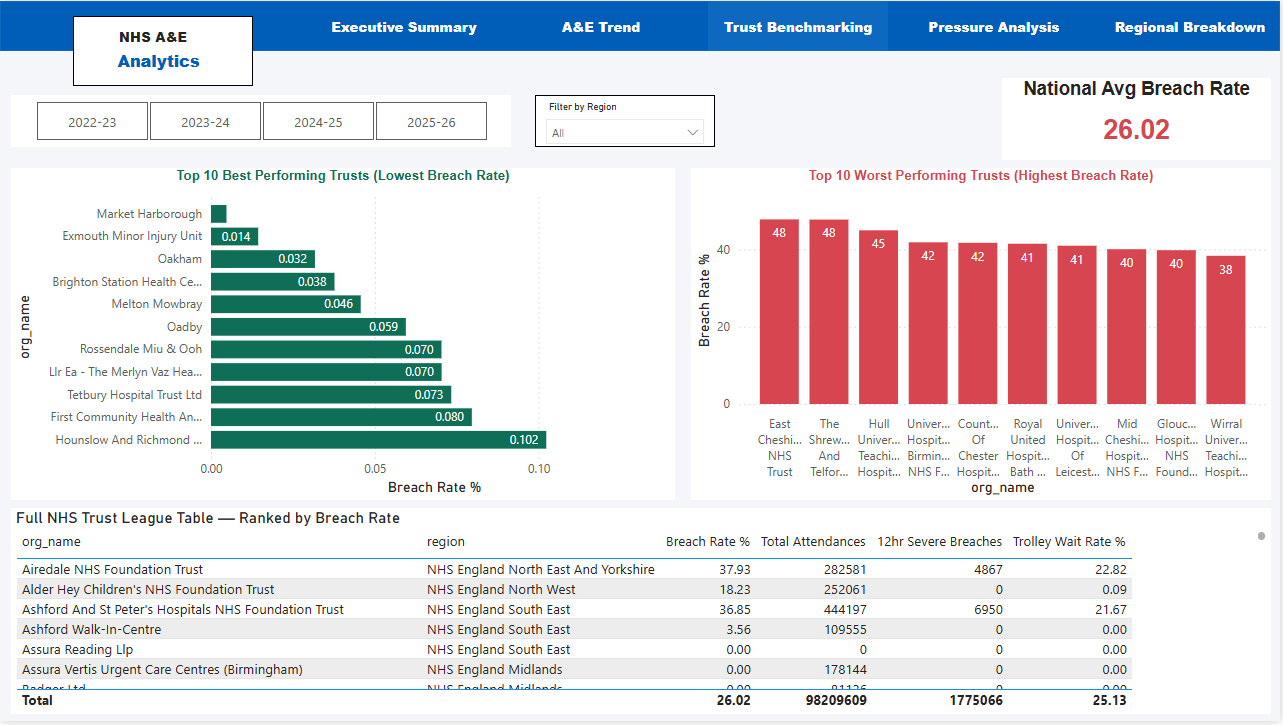

The dashboard page shown, as its layout file describes it:
{"tool":"powerbi","page":{"name":"Trust Benchmarking","canvas":[1280,720],"ordinal":2},"visuals":[{"type":"shape","box":[0,0,1280,50],"z":0},{"type":"actionButton","title":"Executive Summary","box":[314,0,180,50],"z":1000},{"type":"shape","box":[73,15,180,70],"z":1000,"group":"g1"},{"type":"actionButton","box":[1100,0,180,50],"z":2000},{"type":"textbox","box":[114,21,90,29],"z":2000,"group":"g1"},{"type":"actionButton","box":[903.5,0,180,50],"z":3000},{"type":"textbox","box":[103,43,111,34],"z":3000,"group":"g1"},{"type":"actionButton","box":[510.5,0,180,50],"z":4000},{"type":"actionButton","box":[708,0,180,50],"z":5000},{"type":"group","id":"g1","title":"Group 1","box":[73,15,180,70],"z":6000},{"type":"slicer","title":"Filter by Region","fields":{"Values":["dim_organisation.region"]},"box":[535,94,180,52],"z":7000},{"type":"slicer","fields":{"Values":["dim_date.Financial Year"]},"box":[11,94,500,52],"z":8000},{"type":"clusteredColumnChart","title":"Top 10 Worst Performing Trusts (Highest Breach Rate)","fields":{"Category":["dim_organisation.org_name"],"Y":["_Measures.Breach Rate %"]},"box":[691,167,580,332],"z":9000},{"type":"tableEx","title":"Full NHS Trust League Table — Ranked by Breach Rate","fields":{"Values":["dim_organisation.org_name","dim_organisation.region","_Measures.Breach Rate %","_Measures.Total Attendances","_Measures.12hr Severe Breaches","_Measures.Trolley Wait Rate %"]},"box":[11,507,1260,206],"z":10000},{"type":"clusteredBarChart","title":"Top 10 Best Performing Trusts (Lowest Breach Rate)","fields":{"Category":["dim_organisation.org_name"],"Y":["_Measures.Breach Rate %"]},"box":[11,167,664,332],"z":11000},{"type":"cardVisual","title":"National Avg Breach Rate","fields":{"Data":["_Measures.Breach Rate %"]},"box":[1002,77,269,82],"z":12000}]}

Visuals, with their boxes in screenshot pixels (x1, y1, x2, y2), scaled from the page's 1280x720 canvas onto the 1283x725 screenshot:
shape: <bbox>0, 0, 1282, 50</bbox>
"Executive Summary" actionButton: <bbox>315, 0, 495, 50</bbox>
shape: <bbox>73, 15, 254, 86</bbox>
actionButton: <bbox>1103, 0, 1282, 50</bbox>
textbox: <bbox>114, 21, 204, 50</bbox>
actionButton: <bbox>906, 0, 1086, 50</bbox>
textbox: <bbox>103, 43, 215, 78</bbox>
actionButton: <bbox>512, 0, 692, 50</bbox>
actionButton: <bbox>710, 0, 890, 50</bbox>
"Group 1" group: <bbox>73, 15, 254, 86</bbox>
"Filter by Region" slicer: <bbox>536, 95, 717, 147</bbox>
slicer - dim_date.Financial Year: <bbox>11, 95, 512, 147</bbox>
"Top 10 Worst Performing Trusts (Highest Breach Rate)" clusteredColumnChart: <bbox>693, 168, 1274, 502</bbox>
"Full NHS Trust League Table — Ranked by Breach Rate" tableEx: <bbox>11, 511, 1274, 718</bbox>
"Top 10 Best Performing Trusts (Lowest Breach Rate)" clusteredBarChart: <bbox>11, 168, 677, 502</bbox>
"National Avg Breach Rate" cardVisual: <bbox>1004, 78, 1274, 160</bbox>
